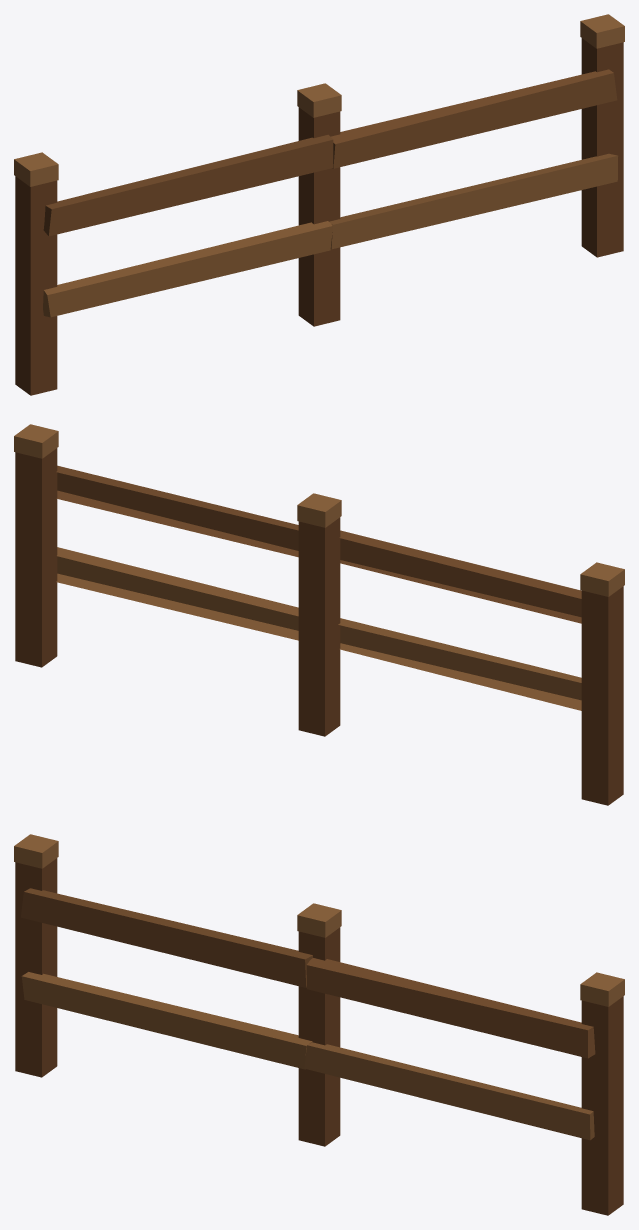
File: town_fence.glb
The picture shows the model from 3 angles, top to bottom: view 1: azimuth 30°, elevation 25°; view 2: azimuth 150°, elevation 25°; view 3: azimuth 330°, elevation 25°; orthographic projection.
Parts seen in each view (by area): view 1: town_fence; view 2: town_fence; view 3: town_fence.
Part boxes in pixels (<box>): town_fence: <box>14,14,624,395</box>; town_fence: <box>14,424,624,805</box>; town_fence: <box>14,834,624,1215</box>.
Size of the model in its own units: 3.15 by 1.14 by 0.2094.
